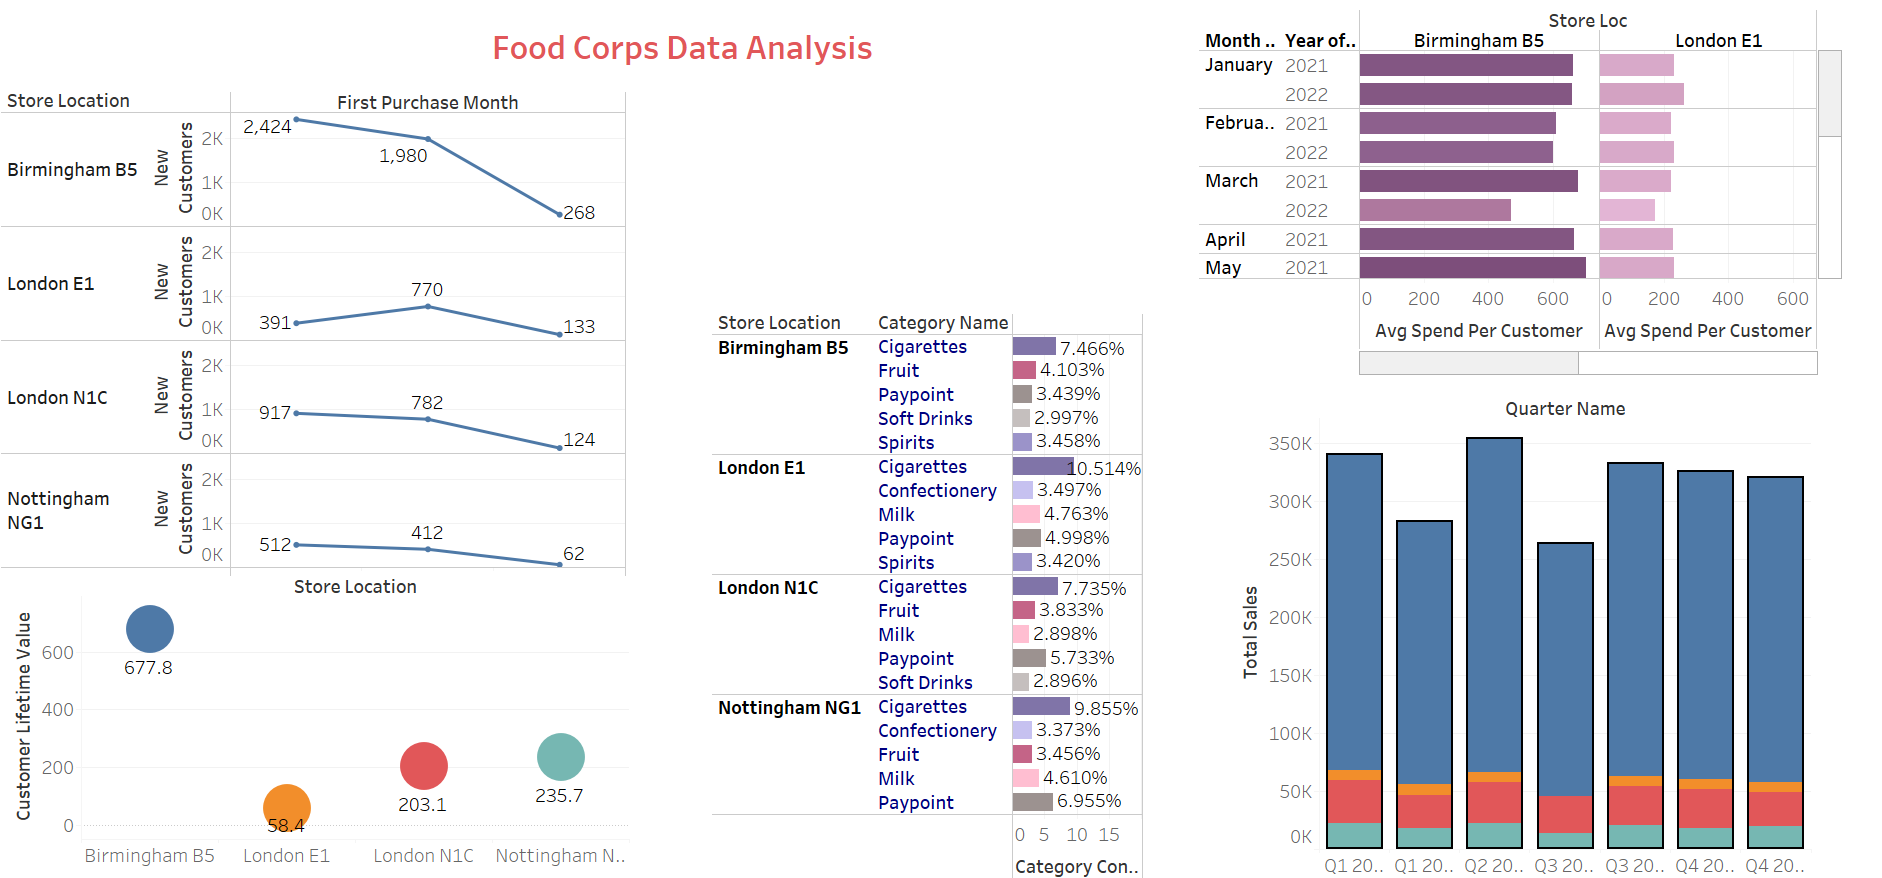

Layout of this report page (visuals, bound fields, positions):
{"tool":"tableau","page":{"name":"Dashboard 1","canvas":[1000,1000],"units":"permille","ordinal":0},"visuals":[{"type":"worksheet","title":"KPI 7","mark":"Bar","rows":["transaction_month","transaction_month"],"cols":["store_loc","avg_spend_per_customer"],"box":[637.2,11.4,341.5,415.7]},{"type":"text","box":[259.1,14.8,394,76.3]},{"type":"worksheet","title":"KPI3","mark":"Automatic","rows":["store_loc","new_customers"],"cols":["first_purchase_month"],"box":[0.7,104.8,332.9,575.2]},{"type":"worksheet","title":"KPI 1","mark":"Automatic","rows":["total_sales"],"cols":["quarter_name"],"box":[653.8,453.3,309,546.7]},{"type":"worksheet","title":"KPI 4","mark":"Shape","rows":["customer_lifetime_value"],"cols":["store_loc"],"box":[1.3,656,332.9,332.6]}]}

Visuals, with their boxes on the dashboard's canvas, which has no fixed pixel size, in thousandths of its width and height (x1, y1, x2, y2). These are canvas units, not pixel positions in the 1882x878 screenshot, which may show the page scaled, cropped or inside an application window:
"KPI 7" worksheet (Bar marks): detection(637, 11, 979, 427)
text: detection(259, 15, 653, 91)
"KPI3" worksheet: detection(1, 105, 334, 680)
"KPI 1" worksheet: detection(654, 453, 963, 1000)
"KPI 4" worksheet (Shape marks): detection(1, 656, 334, 989)
